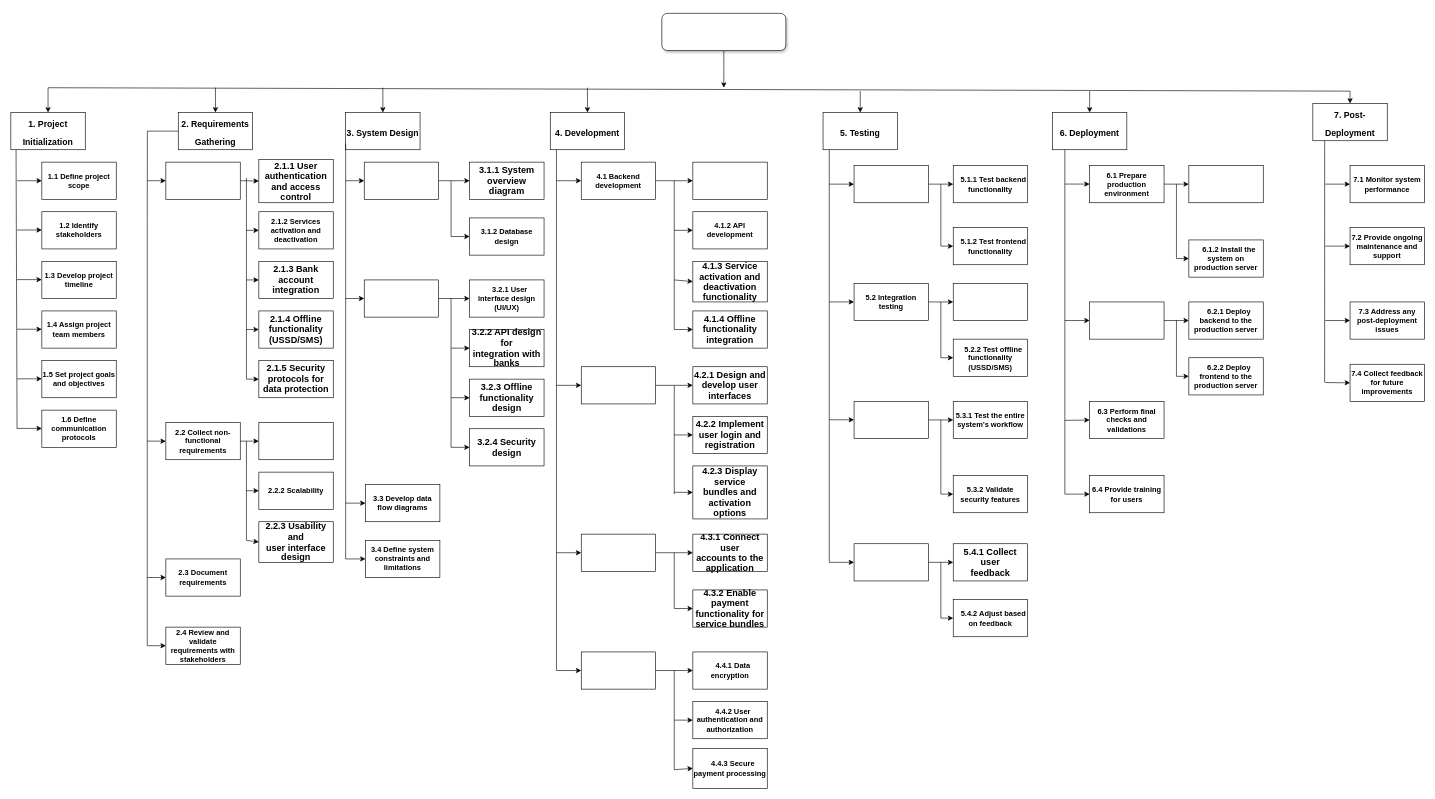
Image size: 1435x799. Some labels were removed from this diagram. The shapes that lost their labels are listed below. From the top down, each one's centre as x and y in pixels, then its label:
At [724,32]: "EMRAS App".
At [202,180]: "2.1 Collect functional requirements".
At [401,180]: "3.1 High-level system architecture".
At [729,180]: "4.1.1 Database implementation".
At [890,184]: "5.1 Unit testing".
At [1225,184]: "6.1.1 Set up servers and database".
At [401,298]: "3.2 Detailed system design".
At [990,302]: "5.2.1 Test API and backend integrations".
At [1126,320]: "6.2 Deploy system".
At [618,385]: "4.2 Frontend development".
At [890,420]: "5.3 System testing".
At [295,441]: "2.2.1 Performance requirements".
At [618,552]: "4.3 Integration of banking functionality".
At [890,562]: "5.4 User acceptance testing (UAT)".
At [618,670]: "4.4 Implement security protocols".
